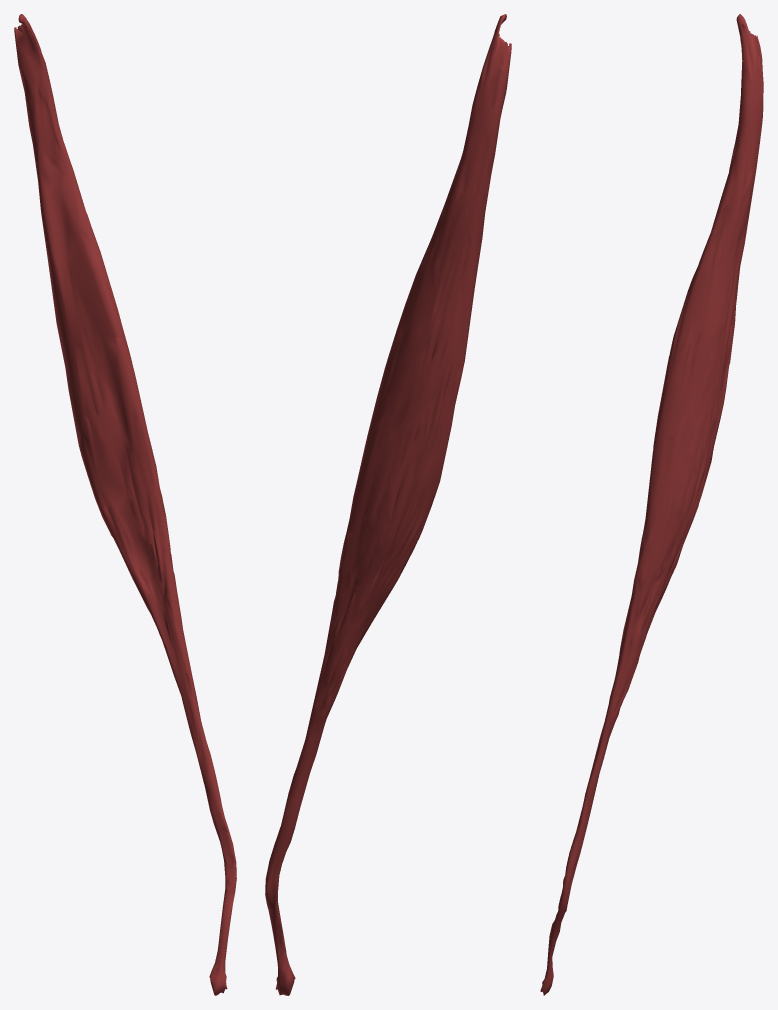
File: extensor-carpi-radialis-brevis-l.glb
3 renders of one model, left to right at view 1: azimuth 30°, elevation 25°; view 2: azimuth 210°, elevation 25°; view 3: azimuth 270°, elevation 25°, orthographic. The views are drawn at different scales.
Parts seen in each view (by area): view 1: Extensor carpi radialis brevis.l; view 2: Extensor carpi radialis brevis.l; view 3: Extensor carpi radialis brevis.l.
Part boxes in pixels (x1,y1,x2,y2): Extensor carpi radialis brevis.l: (14,14,236,995); Extensor carpi radialis brevis.l: (265,14,511,995); Extensor carpi radialis brevis.l: (540,14,763,995).
Bounding box in the file's own units: 0.0458 × 0.3127 × 0.0679.
